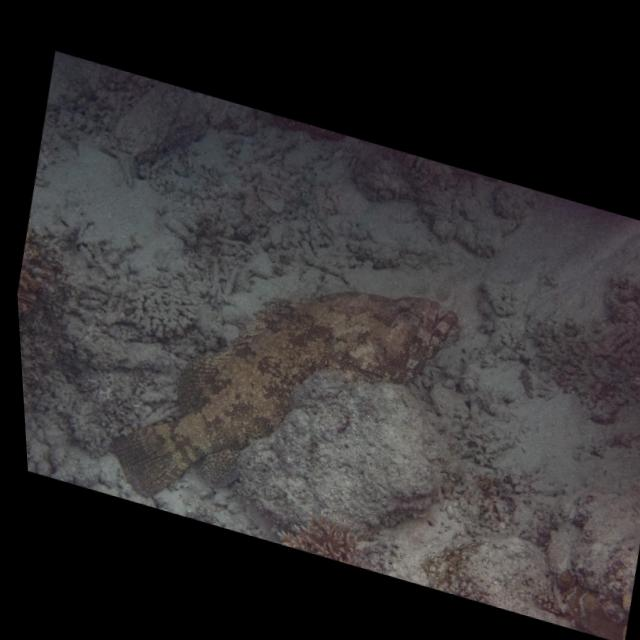Groupers: (81, 204, 473, 579)
